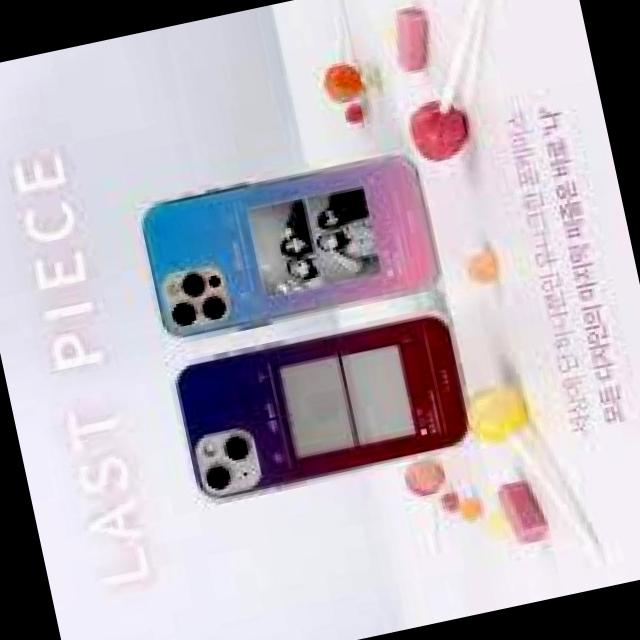lens_back: (218, 427, 256, 466), (166, 294, 202, 332), (195, 289, 233, 325), (176, 264, 210, 302), (200, 460, 234, 496)
phone: (166, 303, 480, 508), (131, 146, 441, 342)
